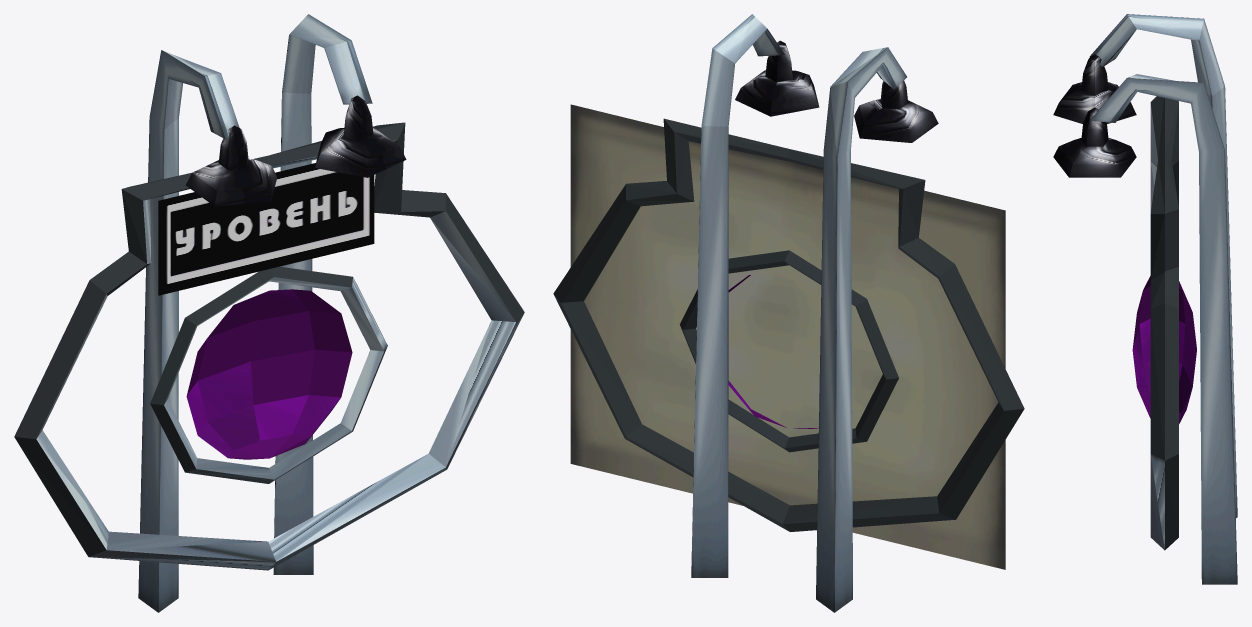
The model's file is Schild_Anzeigentafel_Klein [Zeppelinstation]_629.glb.
3 views of the same model, side by side, from view 1: azimuth 30°, elevation 25°; view 2: azimuth 150°, elevation 25°; view 3: azimuth 270°, elevation 25° (orthographic). The views are drawn at different scales.
Visible parts, largest first — view 1: pTorusShape6, pSphereShape11, pPlaneShape17, pCylinderShape37, pTorusShape7, pCylinderShape36, pSphereShape14, pSphereShape12, pSphereShape15, pSphereShape13; view 2: pPlaneShape16, pTorusShape6, pCylinderShape37, pCylinderShape36, pTorusShape7, pSphereShape14, pSphereShape12, pSphereShape13, pSphereShape15; view 3: pCylinderShape36, pTorusShape6, pCylinderShape37, pSphereShape11, pSphereShape12, pSphereShape14, pSphereShape15, pSphereShape13.
Boxes of the visible parts, x1=… form: pTorusShape6: x1=14, y1=122, x2=524, y2=570; pSphereShape11: x1=186, y1=289, x2=352, y2=459; pPlaneShape17: x1=158, y1=163, x2=374, y2=295; pCylinderShape37: x1=138, y1=50, x2=239, y2=612; pTorusShape7: x1=150, y1=266, x2=387, y2=483; pCylinderShape36: x1=273, y1=14, x2=372, y2=574; pSphereShape14: x1=186, y1=158, x2=277, y2=206; pSphereShape12: x1=315, y1=127, x2=406, y2=177; pSphereShape15: x1=218, y1=125, x2=248, y2=170; pSphereShape13: x1=343, y1=95, x2=373, y2=140; pPlaneShape16: x1=570, y1=104, x2=1005, y2=569; pTorusShape6: x1=553, y1=118, x2=1024, y2=531; pCylinderShape37: x1=816, y1=47, x2=906, y2=612; pCylinderShape36: x1=691, y1=14, x2=784, y2=577; pTorusShape7: x1=679, y1=250, x2=898, y2=452; pSphereShape14: x1=854, y1=99, x2=938, y2=142; pSphereShape12: x1=735, y1=70, x2=819, y2=116; pSphereShape13: x1=765, y1=40, x2=792, y2=82; pSphereShape15: x1=880, y1=81, x2=908, y2=109; pCylinderShape36: x1=1090, y1=74, x2=1237, y2=584; pTorusShape6: x1=1150, y1=96, x2=1178, y2=550; pCylinderShape37: x1=1089, y1=14, x2=1237, y2=517; pSphereShape11: x1=1132, y1=276, x2=1196, y2=423; pSphereShape12: x1=1053, y1=138, x2=1136, y2=177; pSphereShape14: x1=1053, y1=82, x2=1136, y2=123; pSphereShape15: x1=1081, y1=54, x2=1108, y2=94; pSphereShape13: x1=1081, y1=107, x2=1108, y2=146.
Size of the model in its own units: 0.4878 by 0.5171 by 0.1713.
11 materials, 11 textured.
